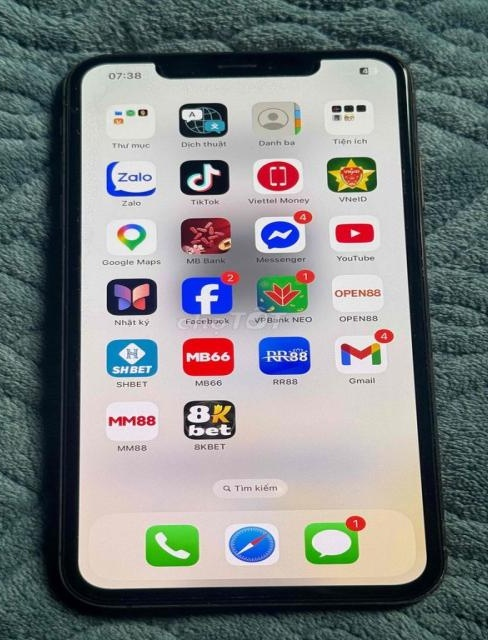scratch: (60, 72, 84, 152), (423, 573, 449, 603), (86, 50, 122, 68)
